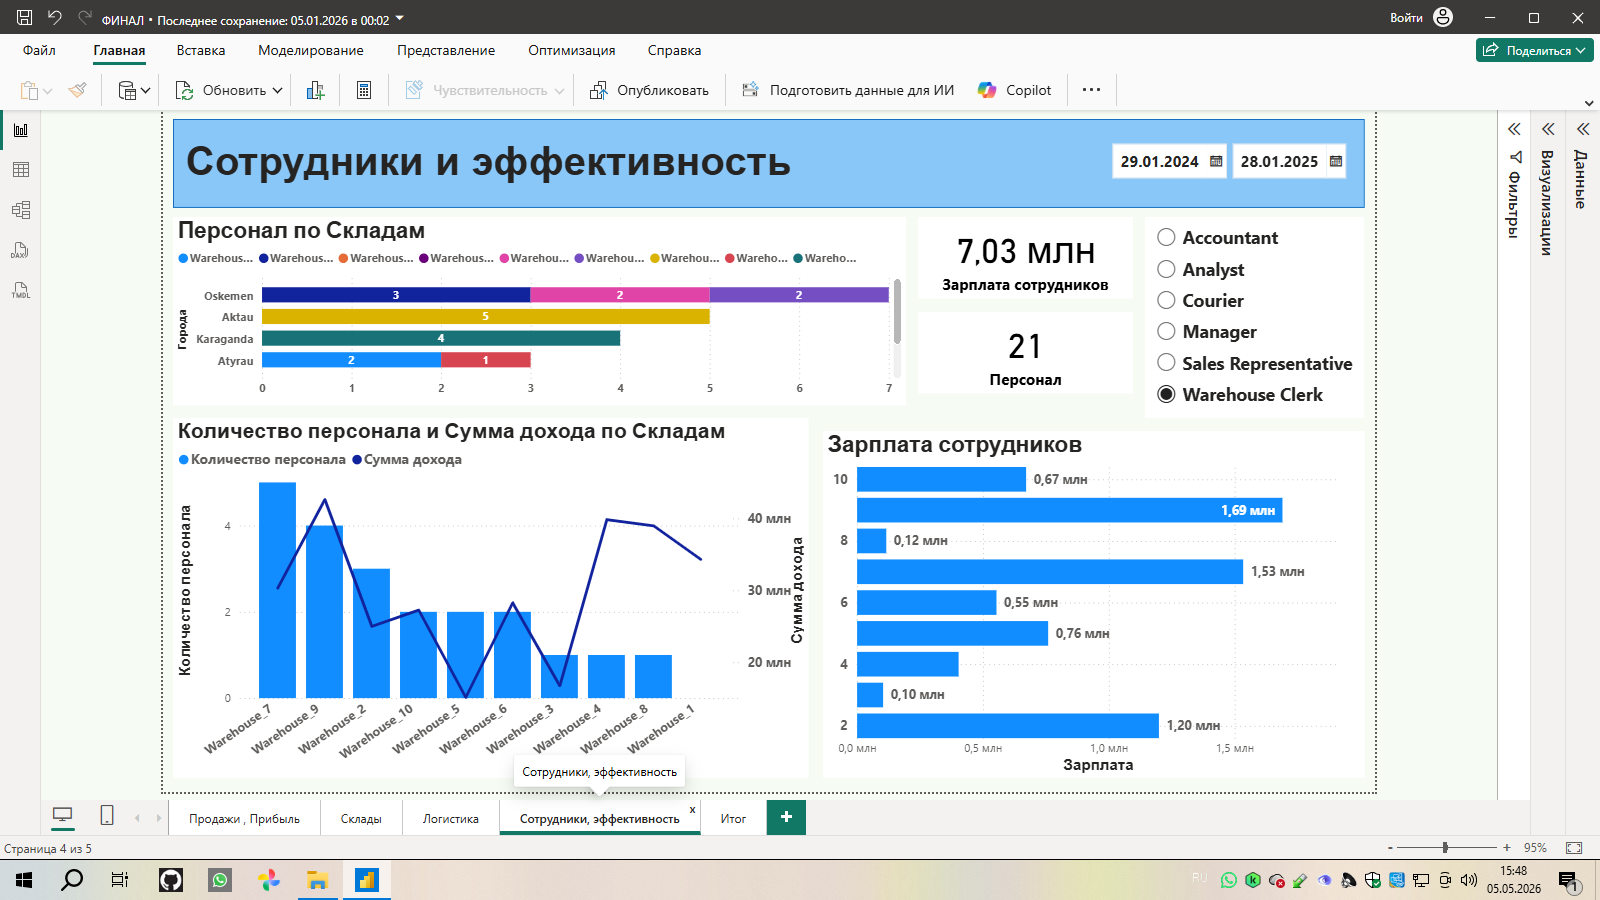

This screenshot's page, from the dashboard's own definition file:
{"tool":"powerbi","page":{"name":"Сотрудники, эффективность","canvas":[1280,720],"ordinal":3},"visuals":[{"type":"shape","box":[10.3,9,1258.2,93.8],"z":0},{"type":"textbox","box":[19.3,24.4,661.8,64.3],"z":1000},{"type":"slicer","fields":{"Values":["Calendar.Date"]},"box":[989.6,25.7,278.9,60.4],"z":2000},{"type":"card","fields":{"Values":["Summary.Staff"]},"box":[796.8,213.3,227.5,86.1],"z":3000},{"type":"card","fields":{"Values":["Summary.Staff Salary"]},"box":[796.8,113.1,227.5,86.1],"z":4000},{"type":"slicer","fields":{"Values":["Student public_staff.position"]},"box":[1037.1,113.1,231.3,212],"z":5000},{"type":"lineStackedColumnComboChart","fields":{"Y2":["Sum(Student public_revenue_wb.revenue_amount)"],"Category":["Student public_wb.warehouse_name"],"Y":["CountNonNull(Student public_staff.position)"]},"box":[10.3,325.1,670.8,380.4],"z":6000},{"type":"barChart","title":"Персонал по Складам","fields":{"Y":["Summary.Персонал"],"Series":["Student public_wb.warehouse_name"],"Category":["Student public_wb.location_city"]},"box":[10.3,113.1,773.7,199.2],"z":7000},{"type":"barChart","title":"Зарплата сотрудников","fields":{"Category":["Student public_staff.warehouse_id"],"Y":["Sum(Student public_staff.salary)"]},"box":[696.5,339.3,571.9,366.3],"z":8000}]}

Visuals, with their boxes on the page's 1280x720 design canvas (x1, y1, x2, y2). These are canvas units, not pixel positions in the 1600x900 screenshot, which may show the page scaled, cropped or inside an application window:
shape: 10,9,1268,103
textbox: 19,24,681,89
slicer - Calendar.Date: 990,26,1268,86
card - Summary.Staff: 797,213,1024,299
card - Summary.Staff Salary: 797,113,1024,199
slicer - Student public_staff.position: 1037,113,1268,325
lineStackedColumnComboChart - Sum(Student public_revenue_wb.revenue_amount) x Student public_wb.warehouse_name: 10,325,681,706
"Персонал по Складам" barChart: 10,113,784,312
"Зарплата сотрудников" barChart: 696,339,1268,706
